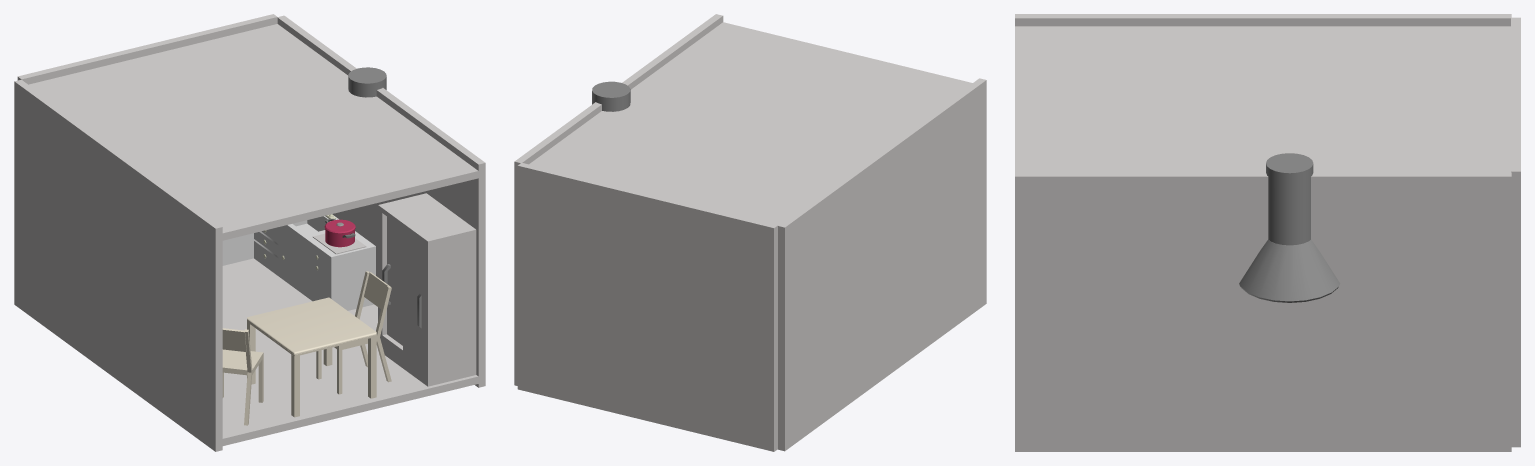
The model's file is nabe.fbx.
The picture shows the model from 3 angles, left to right: view 1: azimuth 30°, elevation 25°; view 2: azimuth 150°, elevation 25°; view 3: azimuth 270°, elevation 25°; orthographic projection. The views are drawn at different scales.
Visible parts, largest first — view 1: pCube34, pCube4, polySurface50, pCube1, polySurface30, pCube3, pCube17, pCube7, polySurface39, polySurface53, pCylinder13; view 2: pCube7, pCube4, pCube34, pCube3, pCylinder13; view 3: pCube3, pCube34, pCylinder13, pCube4, pCube7.
Boxes of the visible parts, box(x1,y1,x2,y2) form: pCube34: box(29, 24, 478, 240); pCube4: box(14, 79, 222, 451); polySurface50: box(378, 193, 476, 386); pCube1: box(222, 258, 478, 445); polySurface30: box(222, 214, 375, 310); pCube3: box(277, 15, 485, 387); pCube17: box(247, 297, 376, 417); pCube7: box(17, 14, 277, 84); polySurface39: box(222, 328, 263, 425); polySurface53: box(316, 271, 391, 394); pCylinder13: box(348, 67, 386, 97); pCube7: box(517, 162, 777, 451); pCube4: box(778, 78, 986, 451); pCube34: box(529, 22, 972, 225); pCube3: box(514, 14, 723, 385); pCylinder13: box(592, 81, 630, 111); pCube3: box(1015, 172, 1511, 451); pCube34: box(1015, 26, 1510, 172); pCylinder13: box(1239, 153, 1340, 302); pCube4: box(1015, 14, 1511, 26); pCube7: box(1511, 17, 1520, 447).
Bounding box in the file's own units: 2108 × 1550 × 2497.
